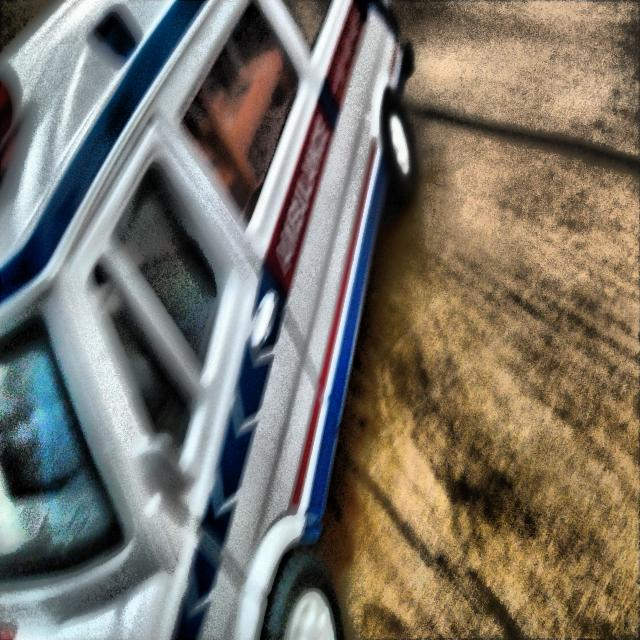Ambulance: (0, 1, 479, 640)
